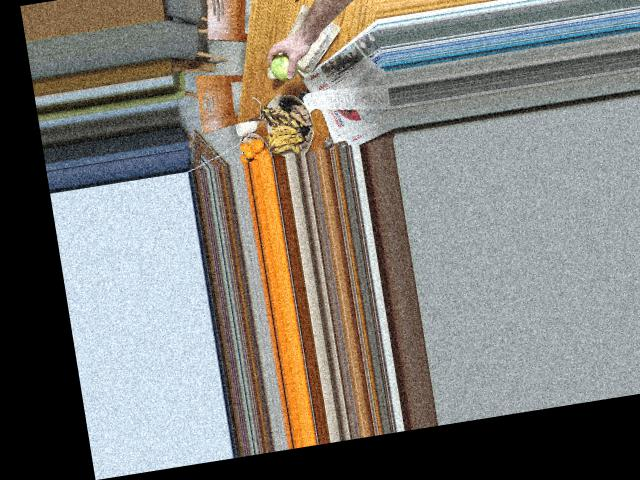apple: (269, 45, 307, 80)
